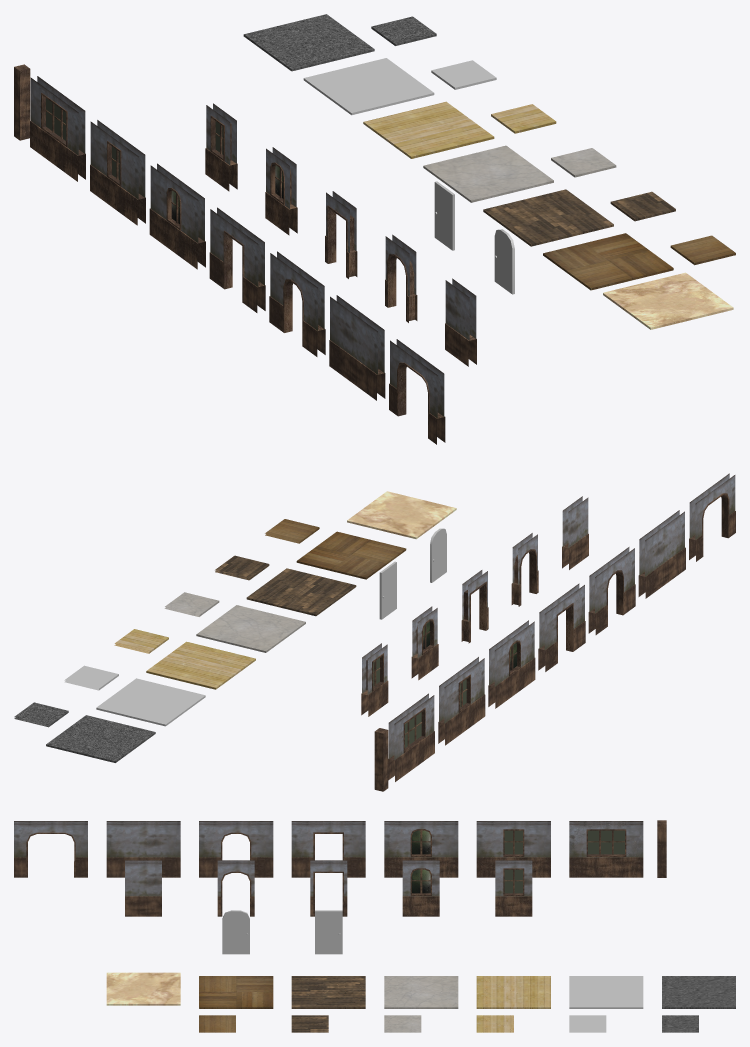
The model's file is modular_house_pack.fbx.
The picture shows the model from 3 angles, top to bottom: view 1: azimuth 30°, elevation 25°; view 2: azimuth 150°, elevation 25°; view 3: azimuth 270°, elevation 25°; orthographic projection. The views are drawn at different scales.
Visible parts, largest first — view 1: Plane.005, Plane.004, Plane.002, Plane.061, Plane.006, Plane.003, Plane.001, Cube.019, Cube.006, Cube.005, Cube.004, Cube.011 (+16 smaller); view 2: Plane.004, Plane.061, Plane.006, Plane.005, Plane.002, Plane.001, Plane.003, Cube.019, Cube.004, Cube.006, Cube.005, Cube.011 (+16 smaller); view 3: Cube.019, Cube.006, Cube.005, Cube.004, Cube.011, Cube.009, Plane.061, Plane.006, Plane.004, Plane.003, Plane.002, Plane.001 (+16 smaller).
Boxes of the visible parts, <box> form: Plane.005: <box>243,14,374,71</box>; Plane.004: <box>303,58,434,115</box>; Plane.002: <box>423,145,553,202</box>; Plane.061: <box>603,272,733,329</box>; Plane.006: <box>543,233,673,290</box>; Plane.003: <box>363,101,494,158</box>; Plane.001: <box>483,189,613,246</box>; Cube.019: <box>30,76,85,181</box>; Cube.006: <box>90,120,145,225</box>; Cube.005: <box>149,163,205,269</box>; Cube.004: <box>329,295,385,400</box>; Cube.011: <box>269,251,325,356</box>; Plane.004: <box>96,678,205,726</box>; Plane.061: <box>347,491,456,539</box>; Plane.006: <box>296,531,406,579</box>; Plane.005: <box>46,715,155,762</box>; Plane.002: <box>196,605,305,652</box>; Plane.001: <box>246,568,356,616</box>; Plane.003: <box>146,641,255,689</box>; Cube.019: <box>388,693,434,781</box>; Cube.004: <box>638,510,685,598</box>; Cube.006: <box>438,657,485,745</box>; Cube.005: <box>488,620,535,708</box>; Cube.011: <box>588,547,635,634</box>; Cube.019: <box>569,821,643,877</box>; Cube.006: <box>476,821,550,877</box>; Cube.005: <box>384,821,458,877</box>; Cube.004: <box>106,821,180,877</box>; Cube.011: <box>199,821,273,877</box>; Cube.009: <box>291,821,365,877</box>; Plane.061: <box>106,972,180,1005</box>; Plane.006: <box>199,976,273,1008</box>; Plane.004: <box>569,976,643,1008</box>; Plane.003: <box>476,976,550,1008</box>; Plane.002: <box>384,976,458,1008</box>; Plane.001: <box>291,976,365,1008</box>.
Bounding box in the file's own units: 2025 × 320 × 3900.
